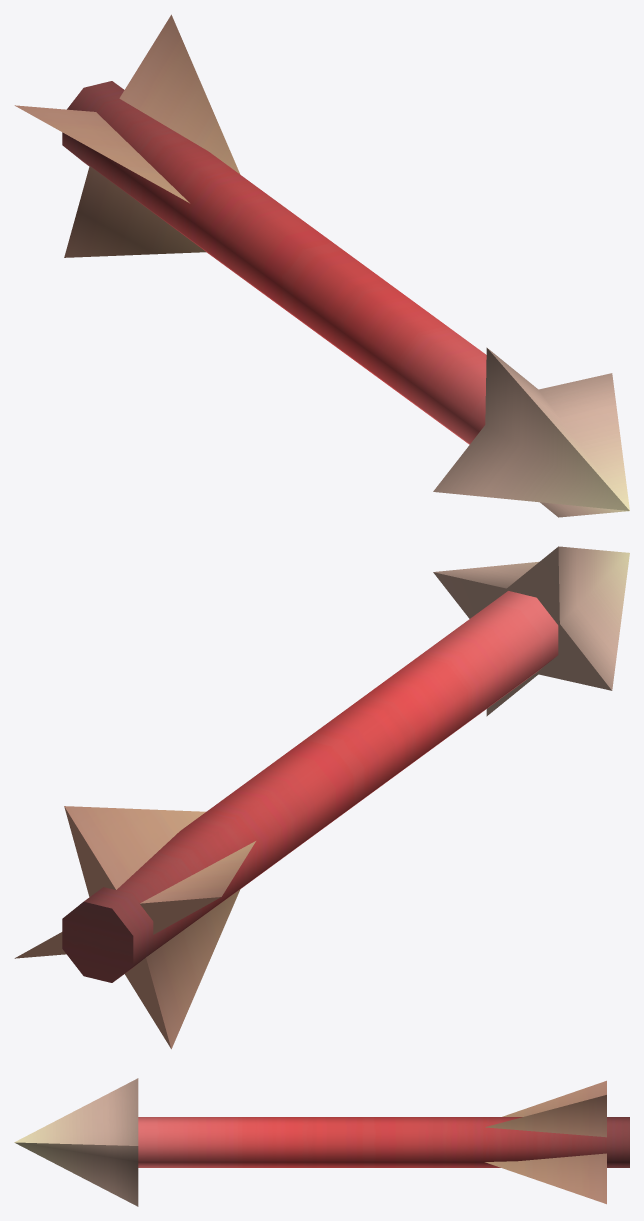
File: Arrow_Hansi.fbx
3 views of the same model, one above another, from view 1: azimuth 30°, elevation 25°; view 2: azimuth 150°, elevation 25°; view 3: azimuth 270°, elevation 25° (orthographic). The views are drawn at different scales.
Visible parts, largest first — view 1: Arrow_Fire; view 2: Arrow_Fire; view 3: Arrow_Fire.
Part boxes in pixels (x1,y1,x2,y2): Arrow_Fire: (14, 14, 629, 517); Arrow_Fire: (14, 546, 629, 1049); Arrow_Fire: (14, 1078, 629, 1206).
Bounding box in the file's own units: 17.88 × 17.88 × 79.36.
1 material, 1 textured.
